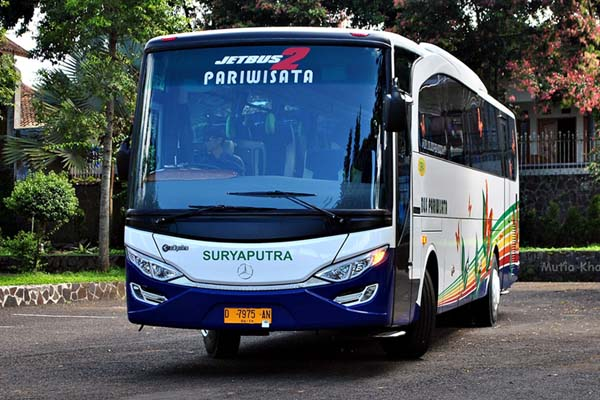plate: (224, 305, 271, 327)
